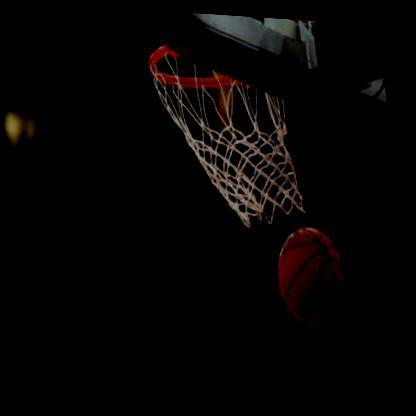basketball: (267, 213, 361, 332)
rim: (123, 13, 331, 253)
